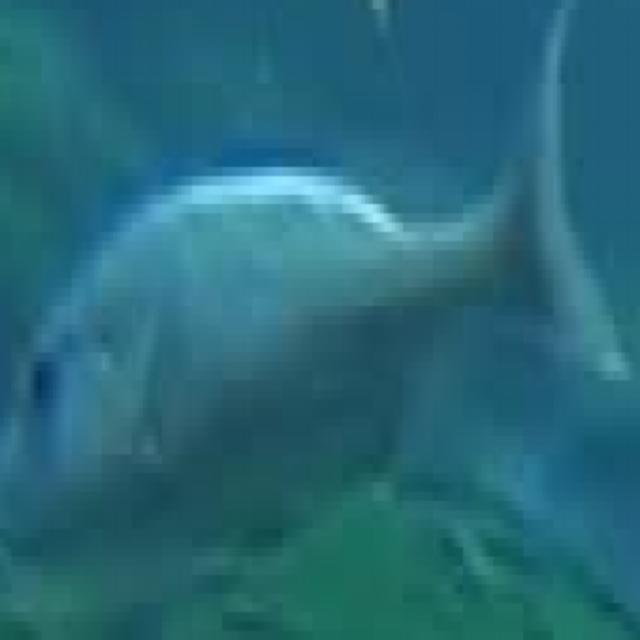fish: (4, 9, 640, 640)
